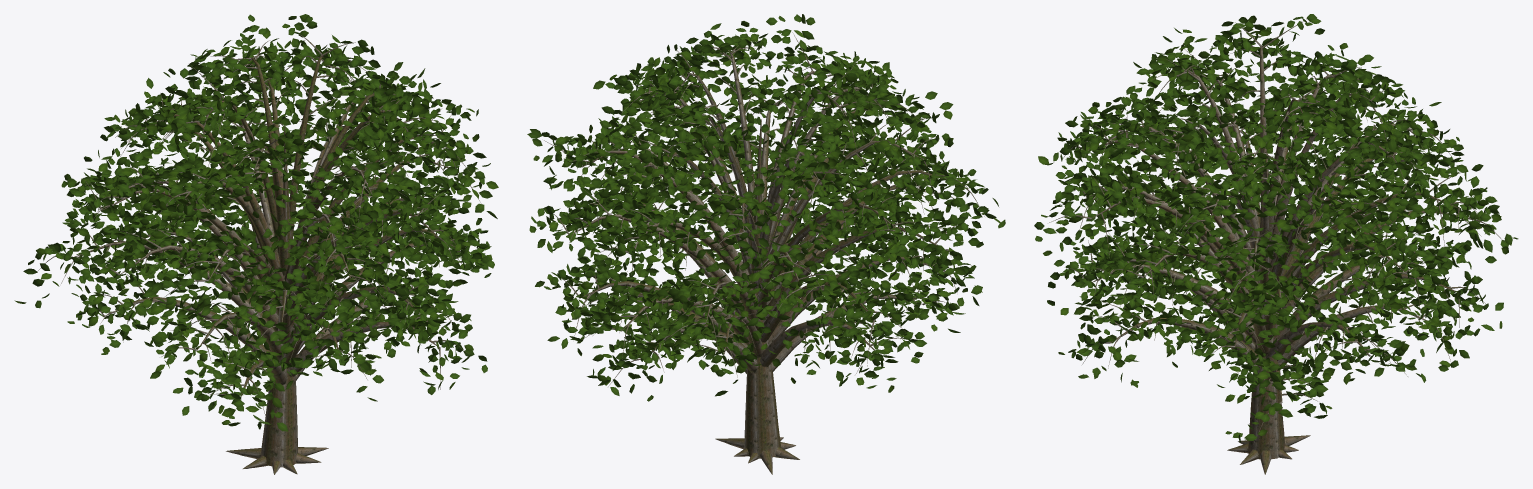
File: laurel_giant_lod2.gltf
3 views of the same model, side by side, from view 1: azimuth 30°, elevation 25°; view 2: azimuth 150°, elevation 25°; view 3: azimuth 270°, elevation 25° (orthographic).
Visible parts, largest first — view 1: laurel_giant_lod2; view 2: laurel_giant_lod2; view 3: laurel_giant_lod2.
Boxes of the visible parts, box(x1,y1,x2,y2) form: laurel_giant_lod2: box(14, 14, 498, 474); laurel_giant_lod2: box(527, 14, 1005, 474); laurel_giant_lod2: box(1034, 14, 1518, 474).
Bounding box in the file's own units: 19.54 × 18.29 × 19.68.
3 materials, 3 textured.
